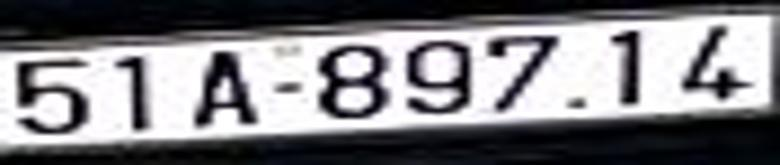-: (272, 79, 308, 100)
.: (566, 89, 592, 118)
1: (112, 49, 156, 138), (610, 32, 644, 109)
4: (682, 24, 756, 105)
5: (12, 55, 94, 141)
7: (485, 31, 559, 118)
8: (318, 44, 389, 123)
9: (402, 40, 474, 119)
A: (192, 47, 264, 132)
